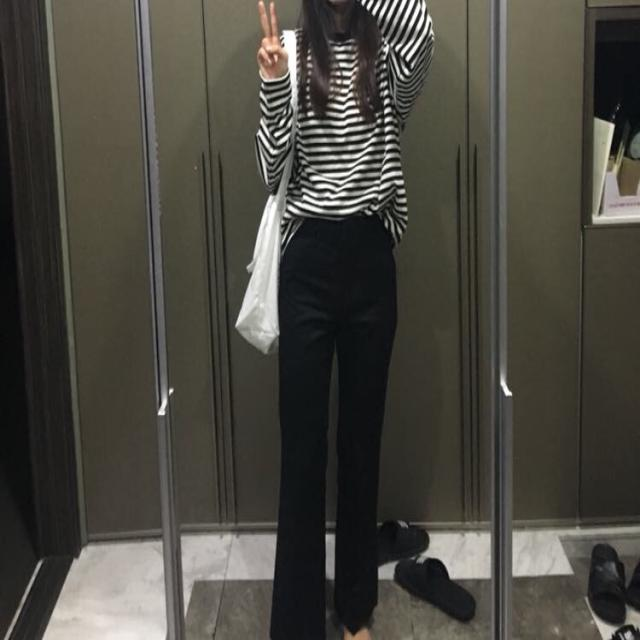longsleeve: (254, 0, 436, 250)
slacks: (269, 213, 397, 640)
